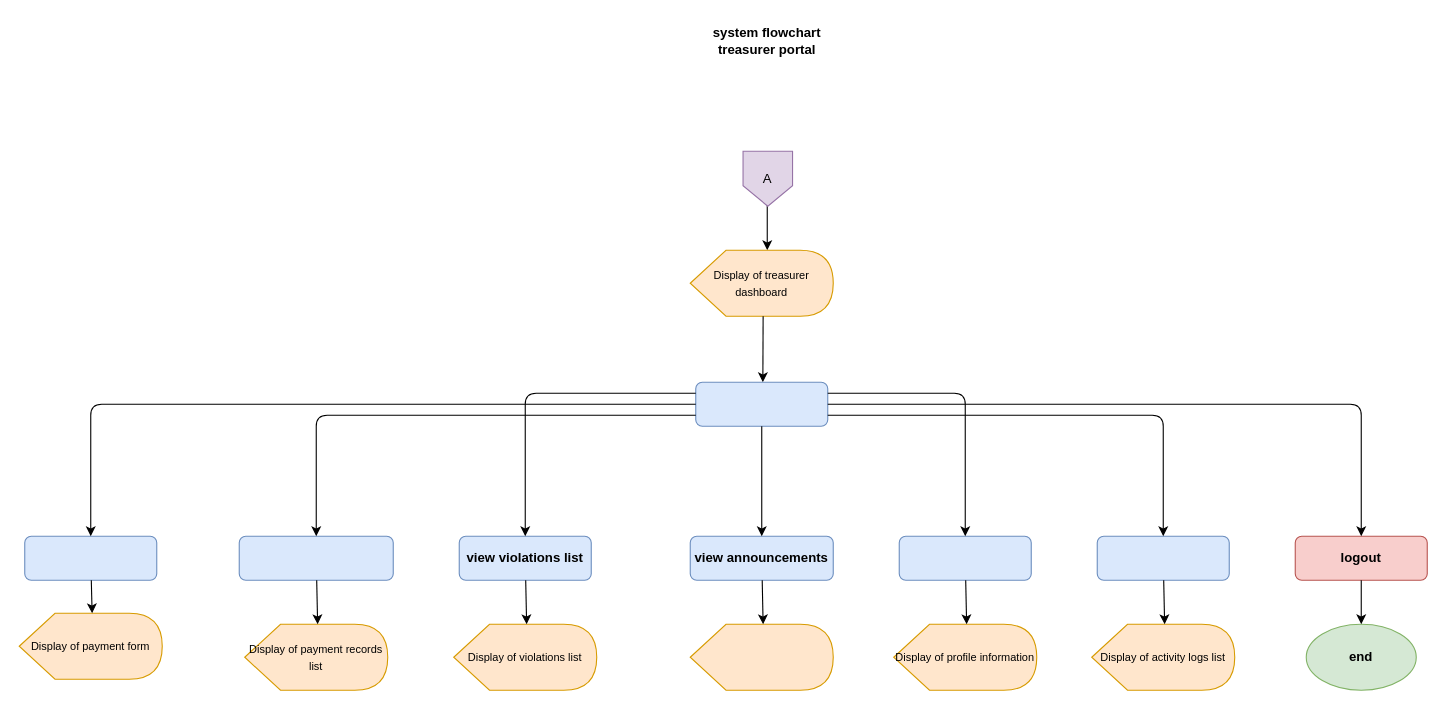
Image size: 1447x710. Some labels were removed from this diagram. The centre of each missing label's shape, as x and y in pixels:
"Display of announcements list" belongs at point (761, 656).
"process payment" belongs at point (90, 557).
"Treasurer sidebar" belongs at point (761, 403).
"view activity logs" belongs at point (1162, 557).
"view payment records" belongs at point (315, 557).
"view profile" belongs at point (964, 557).
